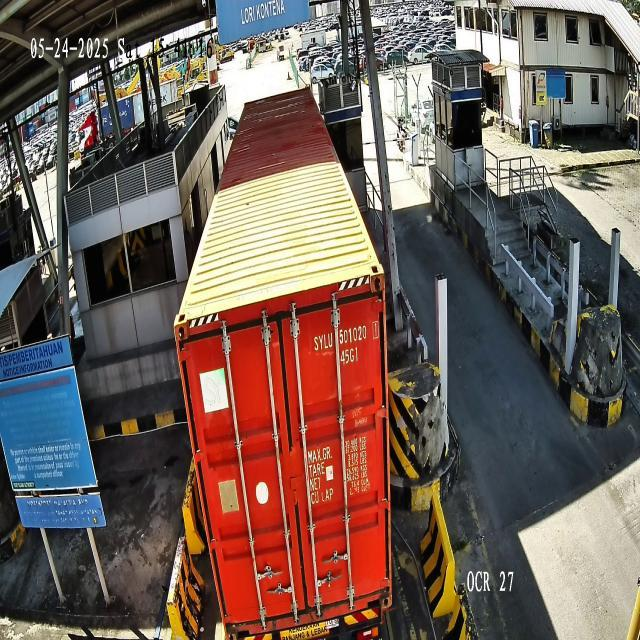ISO: (341, 346, 358, 366)
container_number: (314, 321, 379, 352)
